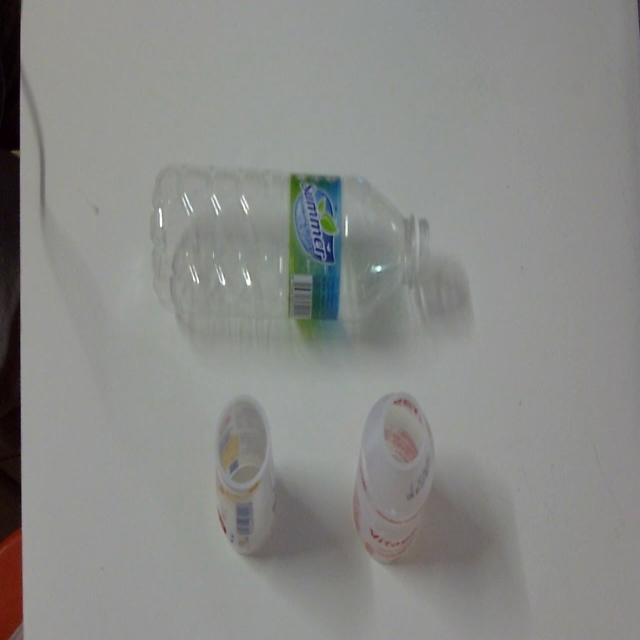plastic_laydown_0rotation: (145, 148, 439, 342)
plastic_standrotation: (351, 383, 436, 572), (209, 395, 288, 559)
